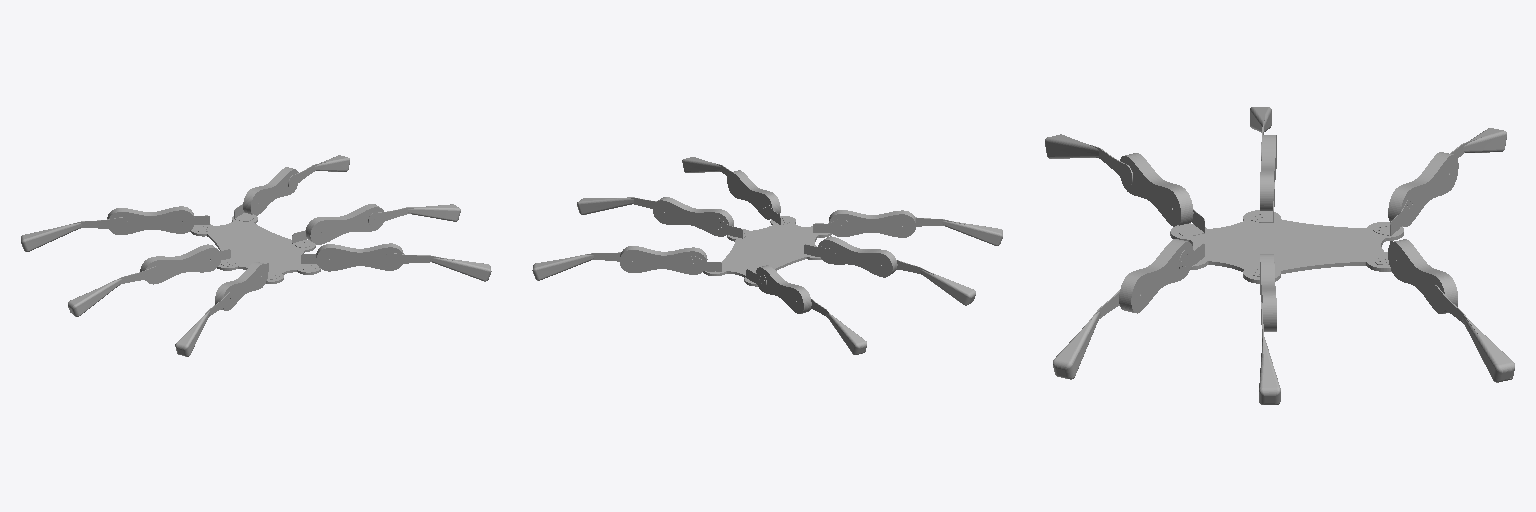
The robot description file, URDF, robot "hexapod":
<?xml version='1.0' encoding='utf-8'?>
<robot name="hexapod">
  <material name="gray">
    <color rgba="0.7 0.7 0.7 1.0" />
  </material>
  <link name="base_link">
    <inertial>
      <origin xyz="0.0008471798785983058 0.004861289651277688 -0.008482185119927165" rpy="0 0 0" />
      <mass value="11.263155017509012" />
      <inertia ixx="0.253898" iyy="0.08278" izz="0.33649" ixy="0.0" iyz="0.0" ixz="0.0" />
    </inertial>
    <visual>
      <origin xyz="0 0 0" rpy="0 0 0" />
      <geometry>
        <mesh filename="../meshes/base_link.stl" scale="0.001 0.001 0.001" />
      </geometry>
      <material name="gray" />
    </visual>
    <collision>
      <origin xyz="0 0 0" rpy="0 0 0" />
      <geometry>
        <mesh filename="../meshes/base_link.stl" scale="0.001 0.001 0.001" />
      </geometry>
    </collision>
  </link>
  <link name="MR_coxa_1">
    <inertial>
      <origin xyz="-0.16134 0.051471 0.003482" rpy="0 0 0" />
      <mass value="0.2" />
      <inertia ixx="1.000000e-04" iyy="1.000000e-04" izz="1.000000e-04" ixy="0.0" iyz="0.0" ixz="0.0" />
    </inertial>
    <visual>
      <origin xyz="-0.16134 0.051471 0.003482" rpy="0 0 0" />
      <geometry>
        <mesh filename="../meshes/MR_coxa_1.stl" scale="0.001 0.001 0.001" />
      </geometry>
      <material name="gray" />
    </visual>
    <collision>
      <origin xyz="-0.16134 0.051471 0.003482" rpy="0 0 0" />
      <geometry>
        <mesh filename="../meshes/MR_coxa_1.stl" scale="0.001 0.001 0.001" />
      </geometry>
    </collision>
  </link>
  <link name="FR_coxa_1">
    <inertial>
      <origin xyz="-0.090847 -0.255486 0.003482" rpy="0 0 0" />
      <mass value="0.2" />
      <inertia ixx="1.000000e-04" iyy="1.000000e-04" izz="1.000000e-04" ixy="0.0" iyz="0.0" ixz="0.0" />
    </inertial>
    <visual>
      <origin xyz="-0.090847 -0.255486 0.003482" rpy="0 0 0" />
      <geometry>
        <mesh filename="../meshes/FR_coxa_1.stl" scale="0.001 0.001 0.001" />
      </geometry>
      <material name="gray" />
    </visual>
    <collision>
      <origin xyz="-0.090847 -0.255486 0.003482" rpy="0 0 0" />
      <geometry>
        <mesh filename="../meshes/FR_coxa_1.stl" scale="0.001 0.001 0.001" />
      </geometry>
    </collision>
  </link>
  <link name="BR_coxa_1">
    <inertial>
      <origin xyz="-0.080847 0.23279 0.003482" rpy="0 0 0" />
      <mass value="0.2" />
      <inertia ixx="1.000000e-04" iyy="1.000000e-04" izz="1.000000e-04" ixy="0.0" iyz="0.0" ixz="0.0" />
    </inertial>
    <visual>
      <origin xyz="-0.080847 0.23279 0.003482" rpy="0 0 0" />
      <geometry>
        <mesh filename="../meshes/BR_coxa_1.stl" scale="0.001 0.001 0.001" />
      </geometry>
      <material name="gray" />
    </visual>
    <collision>
      <origin xyz="-0.080847 0.23279 0.003482" rpy="0 0 0" />
      <geometry>
        <mesh filename="../meshes/BR_coxa_1.stl" scale="0.001 0.001 0.001" />
      </geometry>
    </collision>
  </link>
  <link name="FL_coxa_1">
    <inertial>
      <origin xyz="0.089153 -0.255486 0.003482" rpy="0 0 0" />
      <mass value="0.2" />
      <inertia ixx="1.000000e-04" iyy="1.000000e-04" izz="1.000000e-04" ixy="0.0" iyz="0.0" ixz="0.0" />
    </inertial>
    <visual>
      <origin xyz="0.089153 -0.255486 0.003482" rpy="0 0 0" />
      <geometry>
        <mesh filename="../meshes/FL_coxa_1.stl" scale="0.001 0.001 0.001" />
      </geometry>
      <material name="gray" />
    </visual>
    <collision>
      <origin xyz="0.089153 -0.255486 0.003482" rpy="0 0 0" />
      <geometry>
        <mesh filename="../meshes/FL_coxa_1.stl" scale="0.001 0.001 0.001" />
      </geometry>
    </collision>
  </link>
  <link name="FL_femur_1">
    <inertial>
      <origin xyz="-0.11029048242100645 0.035471989809574445 4.0271584568832286e-07" rpy="0 0 0" />
      <mass value="1.0" />
      <inertia ixx="1.000000e-03" iyy="1.000000e-03" izz="1.000000e-03" ixy="0.0" iyz="0.0" ixz="0.0" />
    </inertial>
    <visual>
      <origin xyz="0.146674 -0.315226 -0.029046" rpy="0 0 0" />
      <geometry>
        <mesh filename="../meshes/FL_femur_1.stl" scale="0.001 0.001 0.001" />
      </geometry>
      <material name="gray" />
    </visual>
    <collision>
      <origin xyz="0.146674 -0.315226 -0.029046" rpy="0 0 0" />
      <geometry>
        <mesh filename="../meshes/FL_femur_1.stl" scale="0.001 0.001 0.001" />
      </geometry>
    </collision>
  </link>
  <link name="BL_tibia_1">
    <inertial>
      <origin xyz="-0.24365603913458905 -0.1435076247203662 -0.04432699297836132" rpy="0 0 0" />
      <mass value="0.7" />
      <inertia ixx="7.000000e-04" iyy="7.000000e-04" izz="7.000000e-04" ixy="0.0" iyz="0.0" ixz="0.0" />
    </inertial>
    <visual>
      <origin xyz="0.344647 0.385059 -0.029047" rpy="0 0 0" />
      <geometry>
        <mesh filename="../meshes/BL_tibia_1.stl" scale="0.001 0.001 0.001" />
      </geometry>
      <material name="gray" />
    </visual>
    <collision>
      <origin xyz="0.344647 0.385059 -0.029047" rpy="0 0 0" />
      <geometry>
        <mesh filename="../meshes/BL_tibia_1.stl" scale="0.001 0.001 0.001" />
      </geometry>
    </collision>
  </link>
  <link name="ML_tibia_1">
    <inertial>
      <origin xyz="-0.2827662078365218 -0.0024526810045005995 -0.044326992978361374" rpy="0 0 0" />
      <mass value="0.7" />
      <inertia ixx="7.000000e-04" iyy="7.000000e-04" izz="7.000000e-04" ixy="0.0" iyz="0.0" ixz="0.0" />
    </inertial>
    <visual>
      <origin xyz="0.465705 0.050593 -0.029047" rpy="0 0 0" />
      <geometry>
        <mesh filename="../meshes/ML_tibia_1.stl" scale="0.001 0.001 0.001" />
      </geometry>
      <material name="gray" />
    </visual>
    <collision>
      <origin xyz="0.465705 0.050593 -0.029047" rpy="0 0 0" />
      <geometry>
        <mesh filename="../meshes/ML_tibia_1.stl" scale="0.001 0.001 0.001" />
      </geometry>
    </collision>
  </link>
  <link name="FL_tibia_1">
    <inertial>
      <origin xyz="-0.2573100817312584 0.11727917022203821 -0.044326992978362324" rpy="0 0 0" />
      <mass value="0.7" />
      <inertia ixx="7.000000e-04" iyy="7.000000e-04" izz="7.000000e-04" ixy="0.0" iyz="0.0" ixz="0.0" />
    </inertial>
    <visual>
      <origin xyz="0.366165 -0.385628 -0.029047" rpy="0 0 0" />
      <geometry>
        <mesh filename="../meshes/FL_tibia_1.stl" scale="0.001 0.001 0.001" />
      </geometry>
      <material name="gray" />
    </visual>
    <collision>
      <origin xyz="0.366165 -0.385628 -0.029047" rpy="0 0 0" />
      <geometry>
        <mesh filename="../meshes/FL_tibia_1.stl" scale="0.001 0.001 0.001" />
      </geometry>
    </collision>
  </link>
  <link name="ML_coxa_1">
    <inertial>
      <origin xyz="0.159646 0.051471 0.003482" rpy="0 0 0" />
      <mass value="0.2" />
      <inertia ixx="1.000000e-04" iyy="1.000000e-04" izz="1.000000e-04" ixy="0.0" iyz="0.0" ixz="0.0" />
    </inertial>
    <visual>
      <origin xyz="0.159646 0.051471 0.003482" rpy="0 0 0" />
      <geometry>
        <mesh filename="../meshes/ML_coxa_1.stl" scale="0.001 0.001 0.001" />
      </geometry>
      <material name="gray" />
    </visual>
    <collision>
      <origin xyz="0.159646 0.051471 0.003482" rpy="0 0 0" />
      <geometry>
        <mesh filename="../meshes/ML_coxa_1.stl" scale="0.001 0.001 0.001" />
      </geometry>
    </collision>
  </link>
  <link name="BL_coxa_1">
    <inertial>
      <origin xyz="0.079153 0.23279 0.003482" rpy="0 0 0" />
      <mass value="0.2" />
      <inertia ixx="1.000000e-04" iyy="1.000000e-04" izz="1.000000e-04" ixy="0.0" iyz="0.0" ixz="0.0" />
    </inertial>
    <visual>
      <origin xyz="0.079153 0.23279 0.003482" rpy="0 0 0" />
      <geometry>
        <mesh filename="../meshes/BL_coxa_1.stl" scale="0.001 0.001 0.001" />
      </geometry>
      <material name="gray" />
    </visual>
    <collision>
      <origin xyz="0.079153 0.23279 0.003482" rpy="0 0 0" />
      <geometry>
        <mesh filename="../meshes/BL_coxa_1.stl" scale="0.001 0.001 0.001" />
      </geometry>
    </collision>
  </link>
  <link name="ML_femur_1">
    <inertial>
      <origin xyz="-0.1149484184032751 -0.01446297408074099 4.0271584682630146e-07" rpy="0 0 0" />
      <mass value="1.0" />
      <inertia ixx="1.000000e-03" iyy="1.000000e-03" izz="1.000000e-03" ixy="0.0" iyz="0.0" ixz="0.0" />
    </inertial>
    <visual>
      <origin xyz="0.237025 0.021637 -0.029046" rpy="0 0 0" />
      <geometry>
        <mesh filename="../meshes/ML_femur_1.stl" scale="0.001 0.001 0.001" />
      </geometry>
      <material name="gray" />
    </visual>
    <collision>
      <origin xyz="0.237025 0.021637 -0.029046" rpy="0 0 0" />
      <geometry>
        <mesh filename="../meshes/ML_femur_1.stl" scale="0.001 0.001 0.001" />
      </geometry>
    </collision>
  </link>
  <link name="BL_femur_1">
    <inertial>
      <origin xyz="-0.09231673440290544 -0.06999931732268327 4.027158461185343e-07" rpy="0 0 0" />
      <mass value="1.0" />
      <inertia ixx="1.000000e-03" iyy="1.000000e-03" izz="1.000000e-03" ixy="0.0" iyz="0.0" ixz="0.0" />
    </inertial>
    <visual>
      <origin xyz="0.161082 0.245643 -0.029046" rpy="0 0 0" />
      <geometry>
        <mesh filename="../meshes/BL_femur_1.stl" scale="0.001 0.001 0.001" />
      </geometry>
      <material name="gray" />
    </visual>
    <collision>
      <origin xyz="0.161082 0.245643 -0.029046" rpy="0 0 0" />
      <geometry>
        <mesh filename="../meshes/BL_femur_1.stl" scale="0.001 0.001 0.001" />
      </geometry>
    </collision>
  </link>
  <link name="FR_femur_1">
    <inertial>
      <origin xyz="0.10920092283881766 0.03493074590276829 6.761700534901882e-08" rpy="0 0 0" />
      <mass value="1.0" />
      <inertia ixx="1.000000e-03" iyy="1.000000e-03" izz="1.000000e-03" ixy="0.0" iyz="0.0" ixz="0.0" />
    </inertial>
    <visual>
      <origin xyz="-0.148368 -0.315226 -0.029046" rpy="0 0 0" />
      <geometry>
        <mesh filename="../meshes/FR_femur_1.stl" scale="0.001 0.001 0.001" />
      </geometry>
      <material name="gray" />
    </visual>
    <collision>
      <origin xyz="-0.148368 -0.315226 -0.029046" rpy="0 0 0" />
      <geometry>
        <mesh filename="../meshes/FR_femur_1.stl" scale="0.001 0.001 0.001" />
      </geometry>
    </collision>
  </link>
  <link name="FR_tibia_1">
    <inertial>
      <origin xyz="0.2503203165467311 0.13134965047004704 -0.044326663176026085" rpy="0 0 0" />
      <mass value="0.7" />
      <inertia ixx="7.000000e-04" iyy="7.000000e-04" izz="7.000000e-04" ixy="0.0" iyz="0.0" ixz="0.0" />
    </inertial>
    <visual>
      <origin xyz="-0.367859 -0.385628 -0.029046" rpy="0 0 0" />
      <geometry>
        <mesh filename="../meshes/FR_tibia_1.stl" scale="0.001 0.001 0.001" />
      </geometry>
      <material name="gray" />
    </visual>
    <collision>
      <origin xyz="-0.367859 -0.385628 -0.029046" rpy="0 0 0" />
      <geometry>
        <mesh filename="../meshes/FR_tibia_1.stl" scale="0.001 0.001 0.001" />
      </geometry>
    </collision>
  </link>
  <link name="BR_femur_1">
    <inertial>
      <origin xyz="0.09124841811037479 -0.06941726541801047 6.761700563351347e-08" rpy="0 0 0" />
      <mass value="1.0" />
      <inertia ixx="1.000000e-03" iyy="1.000000e-03" izz="1.000000e-03" ixy="0.0" iyz="0.0" ixz="0.0" />
    </inertial>
    <visual>
      <origin xyz="-0.162776 0.245643 -0.029046" rpy="0 0 0" />
      <geometry>
        <mesh filename="../meshes/BR_femur_1.stl" scale="0.001 0.001 0.001" />
      </geometry>
      <material name="gray" />
    </visual>
    <collision>
      <origin xyz="-0.162776 0.245643 -0.029046" rpy="0 0 0" />
      <geometry>
        <mesh filename="../meshes/BR_femur_1.stl" scale="0.001 0.001 0.001" />
      </geometry>
    </collision>
  </link>
  <link name="BR_tibia_1">
    <inertial>
      <origin xyz="0.25117272765098597 -0.12971146666504613 -0.04432666317602593" rpy="0 0 0" />
      <mass value="0.7" />
      <inertia ixx="7.000000e-04" iyy="7.000000e-04" izz="7.000000e-04" ixy="0.0" iyz="0.0" ixz="0.0" />
    </inertial>
    <visual>
      <origin xyz="-0.346341 0.385059 -0.029046" rpy="0 0 0" />
      <geometry>
        <mesh filename="../meshes/BR_tibia_1.stl" scale="0.001 0.001 0.001" />
      </geometry>
      <material name="gray" />
    </visual>
    <collision>
      <origin xyz="-0.346341 0.385059 -0.029046" rpy="0 0 0" />
      <geometry>
        <mesh filename="../meshes/BR_tibia_1.stl" scale="0.001 0.001 0.001" />
      </geometry>
    </collision>
  </link>
  <link name="MR_femur_1">
    <inertial>
      <origin xyz="0.11373220040839996 -0.014493049317919764 6.761700591800812e-08" rpy="0 0 0" />
      <mass value="1.0" />
      <inertia ixx="1.000000e-03" iyy="1.000000e-03" izz="1.000000e-03" ixy="0.0" iyz="0.0" ixz="0.0" />
    </inertial>
    <visual>
      <origin xyz="-0.238719 0.021637 -0.029046" rpy="0 0 0" />
      <geometry>
        <mesh filename="../meshes/MR_femur_1.stl" scale="0.001 0.001 0.001" />
      </geometry>
      <material name="gray" />
    </visual>
    <collision>
      <origin xyz="-0.238719 0.021637 -0.029046" rpy="0 0 0" />
      <geometry>
        <mesh filename="../meshes/MR_femur_1.stl" scale="0.001 0.001 0.001" />
      </geometry>
    </collision>
  </link>
  <link name="MR_tibia_1">
    <inertial>
      <origin xyz="0.2823777690224717 0.013253497777558826 -0.044326663176026695" rpy="0 0 0" />
      <mass value="0.7" />
      <inertia ixx="7.000000e-04" iyy="7.000000e-04" izz="7.000000e-04" ixy="0.0" iyz="0.0" ixz="0.0" />
    </inertial>
    <visual>
      <origin xyz="-0.467399 0.050593 -0.029046" rpy="0 0 0" />
      <geometry>
        <mesh filename="../meshes/MR_tibia_1.stl" scale="0.001 0.001 0.001" />
      </geometry>
      <material name="gray" />
    </visual>
    <collision>
      <origin xyz="-0.467399 0.050593 -0.029046" rpy="0 0 0" />
      <geometry>
        <mesh filename="../meshes/MR_tibia_1.stl" scale="0.001 0.001 0.001" />
      </geometry>
    </collision>
  </link>
  <joint name="MR_coxa_joint" type="revolute">
    <origin xyz="0.16134 -0.051471 -0.003482" rpy="0 0 0" />
    <parent link="base_link" />
    <child link="MR_coxa_1" />
    <axis xyz="0.0 0.0 1.0" />
    <limit lower="-1.047198" upper="1.047198" effort="1000.0" velocity="100.0" />
    <dynamics damping="0.1" friction="0.01" />
  </joint>
  <joint name="FR_coxa_joint" type="revolute">
    <origin xyz="0.090847 0.255486 -0.003482" rpy="0 0 0" />
    <parent link="base_link" />
    <child link="FR_coxa_1" />
    <axis xyz="0.0 0.0 1.0" />
    <limit lower="-1.047198" upper="1.047198" effort="1000.0" velocity="100.0" />
    <dynamics damping="0.1" friction="0.01" />
  </joint>
  <joint name="BR_coxa_joint" type="revolute">
    <origin xyz="0.080847 -0.23279 -0.003482" rpy="0 0 0" />
    <parent link="base_link" />
    <child link="BR_coxa_1" />
    <axis xyz="0.0 0.0 1.0" />
    <limit lower="-1.047198" upper="1.047198" effort="1000.0" velocity="100.0" />
    <dynamics damping="0.1" friction="0.01" />
  </joint>
  <joint name="FL_coxa_joint" type="revolute">
    <origin xyz="-0.089153 0.255486 -0.003482" rpy="0 0 0" />
    <parent link="base_link" />
    <child link="FL_coxa_1" />
    <axis xyz="0.0 0.0 -1.0" />
    <limit lower="-1.047198" upper="1.047198" effort="1000.0" velocity="100.0" />
    <dynamics damping="0.1" friction="0.01" />
  </joint>
  <joint name="FL_femur_joint" type="revolute">
    <origin xyz="-0.057521 0.05974 0.032528" rpy="0 0 0" />
    <parent link="FL_coxa_1" />
    <child link="FL_femur_1" />
    <axis xyz="-0.4784 -0.8781 0.0" />
    <limit lower="-1.221730" upper="0.000000" effort="1000.0" velocity="100.0" />
    <dynamics damping="0.1" friction="0.01" />
  </joint>
  <joint name="BL_tibia_joint" type="revolute">
    <origin xyz="-0.183565 -0.139416 1e-06" rpy="0 0 0" />
    <parent link="BL_femur_1" />
    <child link="BL_tibia_1" />
    <axis xyz="0.4449 -0.8956 0.0" />
    <limit lower="0.000000" upper="2.443461" effort="1000.0" velocity="100.0" />
    <dynamics damping="0.1" friction="0.01" />
  </joint>
  <joint name="ML_tibia_joint" type="revolute">
    <origin xyz="-0.22868 -0.028956 1e-06" rpy="0 0 0" />
    <parent link="ML_femur_1" />
    <child link="ML_tibia_1" />
    <axis xyz="-0.0247 -0.9997 0.0" />
    <limit lower="0.000000" upper="2.443461" effort="1000.0" velocity="100.0" />
    <dynamics damping="0.1" friction="0.01" />
  </joint>
  <joint name="FL_tibia_joint" type="revolute">
    <origin xyz="-0.219491 0.070402 1e-06" rpy="0 0 0" />
    <parent link="FL_femur_1" />
    <child link="FL_tibia_1" />
    <axis xyz="-0.4784 -0.8781 0.0" />
    <limit lower="0.000000" upper="2.443461" effort="1000.0" velocity="100.0" />
    <dynamics damping="0.1" friction="0.01" />
  </joint>
  <joint name="ML_coxa_joint" type="revolute">
    <origin xyz="-0.159646 -0.051471 -0.003482" rpy="0 0 0" />
    <parent link="base_link" />
    <child link="ML_coxa_1" />
    <axis xyz="0.0 0.0 -1.0" />
    <limit lower="-1.047198" upper="1.047198" effort="1000.0" velocity="100.0" />
    <dynamics damping="0.1" friction="0.01" />
  </joint>
  <joint name="BL_coxa_joint" type="revolute">
    <origin xyz="-0.079153 -0.23279 -0.003482" rpy="0 0 0" />
    <parent link="base_link" />
    <child link="BL_coxa_1" />
    <axis xyz="0.0 0.0 -1.0" />
    <limit lower="-1.047198" upper="1.047198" effort="1000.0" velocity="100.0" />
    <dynamics damping="0.1" friction="0.01" />
  </joint>
  <joint name="ML_femur_joint" type="revolute">
    <origin xyz="-0.077379 0.029834 0.032528" rpy="0 0 0" />
    <parent link="ML_coxa_1" />
    <child link="ML_femur_1" />
    <axis xyz="-0.0247 -0.9997 0.0" />
    <limit lower="-1.221730" upper="0.000000" effort="1000.0" velocity="100.0" />
    <dynamics damping="0.1" friction="0.01" />
  </joint>
  <joint name="BL_femur_joint" type="revolute">
    <origin xyz="-0.081929 -0.012853 0.032528" rpy="0 0 0" />
    <parent link="BL_coxa_1" />
    <child link="BL_femur_1" />
    <axis xyz="0.4449 -0.8956 0.0" />
    <limit lower="-1.221730" upper="0.000000" effort="1000.0" velocity="100.0" />
    <dynamics damping="0.1" friction="0.01" />
  </joint>
  <joint name="FR_femur_joint" type="revolute">
    <origin xyz="0.057521 0.05974 0.032528" rpy="0 0 0" />
    <parent link="FR_coxa_1" />
    <child link="FR_femur_1" />
    <axis xyz="0.4784 -0.8781 0.0" />
    <limit lower="0.000000" upper="1.221730" effort="1000.0" velocity="100.0" />
    <dynamics damping="0.1" friction="0.01" />
  </joint>
  <joint name="FR_tibia_joint" type="revolute">
    <origin xyz="0.219491 0.070402 0.0" rpy="0 0 0" />
    <parent link="FR_femur_1" />
    <child link="FR_tibia_1" />
    <axis xyz="0.4784 -0.8781 0.0" />
    <limit lower="-2.443461" upper="0.000000" effort="1000.0" velocity="100.0" />
    <dynamics damping="0.1" friction="0.01" />
  </joint>
  <joint name="BR_femur_joint" type="revolute">
    <origin xyz="0.081929 -0.012853 0.032528" rpy="0 0 0" />
    <parent link="BR_coxa_1" />
    <child link="BR_femur_1" />
    <axis xyz="-0.4449 -0.8956 0.0" />
    <limit lower="0.000000" upper="1.221730" effort="1000.0" velocity="100.0" />
    <dynamics damping="0.1" friction="0.01" />
  </joint>
  <joint name="BR_tibia_joint" type="revolute">
    <origin xyz="0.183565 -0.139416 0.0" rpy="0 0 0" />
    <parent link="BR_femur_1" />
    <child link="BR_tibia_1" />
    <axis xyz="-0.4449 -0.8956 0.0" />
    <limit lower="-2.443461" upper="0.000000" effort="1000.0" velocity="100.0" />
    <dynamics damping="0.1" friction="0.01" />
  </joint>
  <joint name="MR_femur_joint" type="revolute">
    <origin xyz="0.077379 0.029834 0.032528" rpy="0 0 0" />
    <parent link="MR_coxa_1" />
    <child link="MR_femur_1" />
    <axis xyz="0.0247 -0.9997 0.0" />
    <limit lower="0.000000" upper="1.221730" effort="1000.0" velocity="100.0" />
    <dynamics damping="0.1" friction="0.01" />
  </joint>
  <joint name="MR_tibia_joint" type="revolute">
    <origin xyz="0.22868 -0.028956 0.0" rpy="0 0 0" />
    <parent link="MR_femur_1" />
    <child link="MR_tibia_1" />
    <axis xyz="0.0247 -0.9997 0.0" />
    <limit lower="-2.443461" upper="0.000000" effort="1000.0" velocity="100.0" />
    <dynamics damping="0.1" friction="0.01" />
  </joint>
</robot>

--- Facts derived from the render (not from the file) ---
Views: 3 orthographic renders of the robot side by side, from view 1: azimuth 30°, elevation 25°; view 2: azimuth 150°, elevation 25°; view 3: azimuth 270°, elevation 25°.
Model hexapod with 19 links and 18 joints (18 revolute), rooted at base_link, posed every joint at zero.
Links seen in each view (by area): view 1: base_link, BR_femur_1, FL_femur_1, MR_femur_1, ML_femur_1, FR_femur_1, FL_tibia_1, BR_tibia_1, BL_femur_1, ML_tibia_1, MR_tibia_1, BL_tibia_1 (+1 smaller); view 2: base_link, BL_femur_1, FR_femur_1, ML_femur_1, MR_femur_1, FL_femur_1, BR_femur_1, FR_tibia_1, BL_tibia_1, ML_tibia_1, MR_tibia_1, FL_tibia_1 (+1 smaller); view 3: base_link, BL_femur_1, BR_femur_1, FL_femur_1, FR_femur_1, FR_tibia_1, BR_tibia_1, BL_tibia_1, MR_femur_1, ML_femur_1, MR_tibia_1, FL_tibia_1 (+2 smaller).
Boxes of the visible links, box(x1,y1,x2,y2) form: base_link: box(190, 213, 320, 283); BR_femur_1: box(316, 243, 403, 271); FL_femur_1: box(107, 206, 194, 234); MR_femur_1: box(306, 204, 383, 244); ML_femur_1: box(140, 244, 221, 284); FR_femur_1: box(243, 167, 298, 215); FL_tibia_1: box(21, 217, 127, 251); BR_tibia_1: box(384, 253, 491, 281); BL_femur_1: box(215, 262, 268, 310); ML_tibia_1: box(68, 266, 162, 316); MR_tibia_1: box(368, 204, 460, 225); BL_tibia_1: box(175, 292, 233, 356); base_link: box(703, 216, 831, 286); BL_femur_1: box(829, 210, 915, 237); FR_femur_1: box(620, 246, 707, 274); ML_femur_1: box(818, 236, 897, 277); MR_femur_1: box(653, 197, 733, 236); FL_femur_1: box(756, 265, 811, 313); BR_femur_1: box(727, 170, 780, 219); FR_tibia_1: box(532, 252, 620, 280); BL_tibia_1: box(915, 217, 1002, 245); ML_tibia_1: box(897, 260, 975, 305); MR_tibia_1: box(577, 197, 656, 214); FL_tibia_1: box(811, 299, 866, 354); base_link: box(1170, 210, 1403, 283); BL_femur_1: box(1120, 153, 1193, 226); BR_femur_1: box(1119, 239, 1193, 313); FL_femur_1: box(1388, 152, 1458, 226); FR_femur_1: box(1388, 239, 1457, 313); FR_tibia_1: box(1432, 285, 1514, 382); BR_tibia_1: box(1053, 290, 1119, 379); BL_tibia_1: box(1045, 134, 1132, 184); MR_femur_1: box(1260, 254, 1276, 331); ML_femur_1: box(1260, 135, 1276, 210); MR_tibia_1: box(1259, 302, 1280, 404); FL_tibia_1: box(1450, 128, 1506, 157).
Bounding box of the posed robot: 1.68 × 1.17 × 0.1394 m (x, y, z).
Meshes: 19 distinct files referenced, 19 mesh visuals loaded (19 binary STL).
